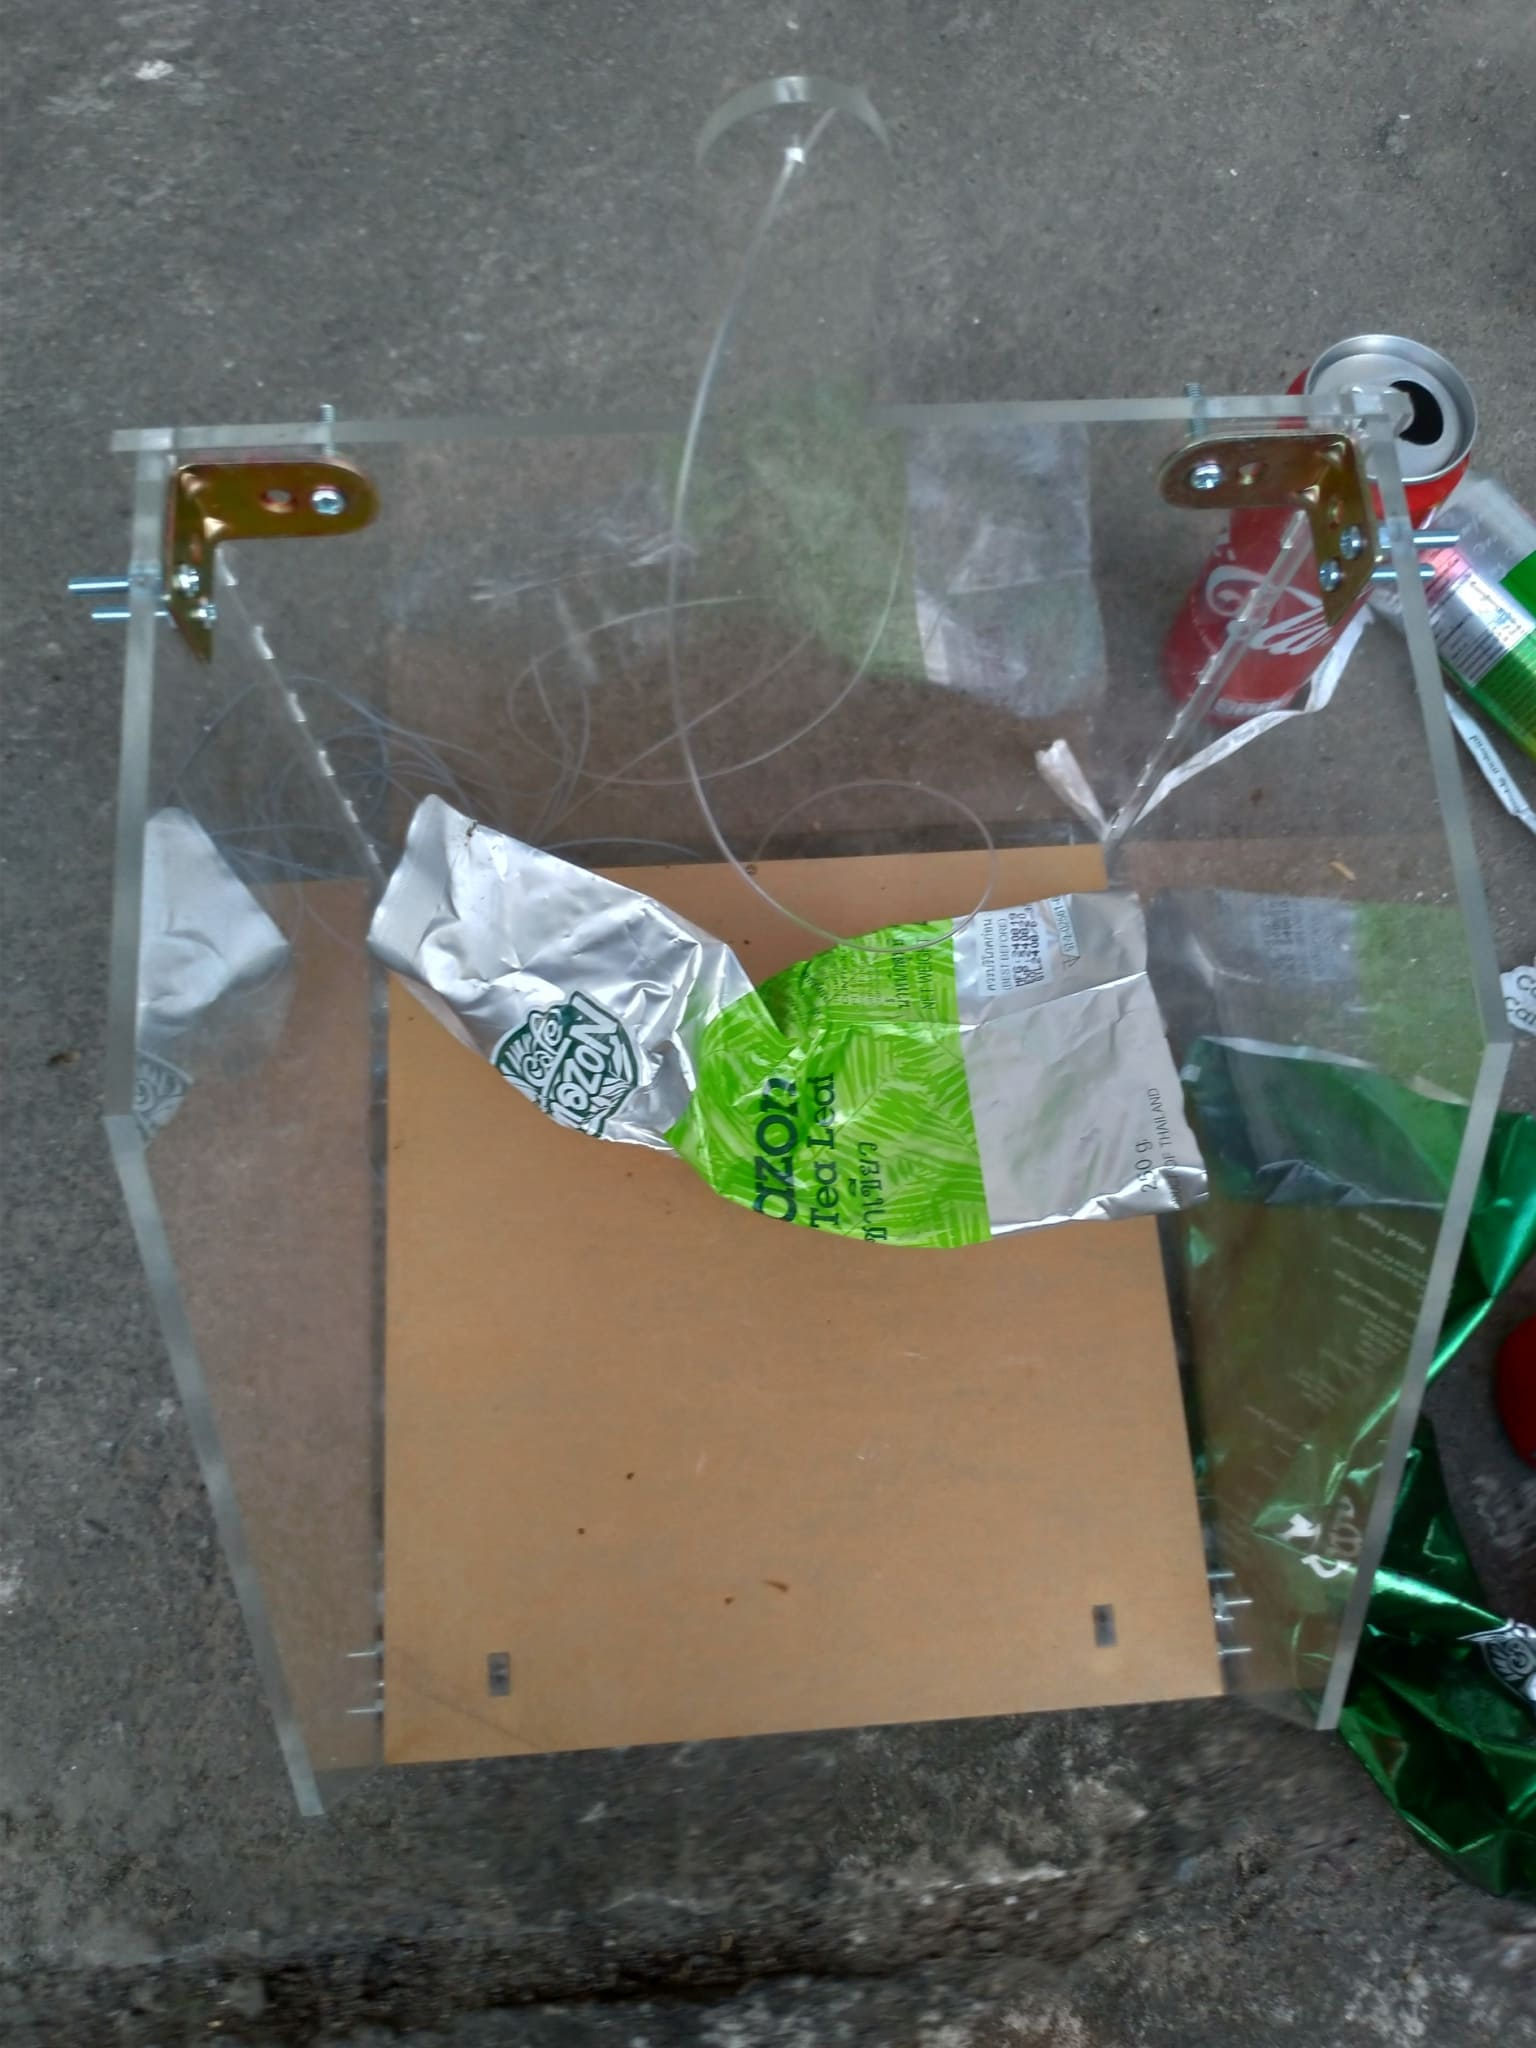AlCan: (1167, 335, 1475, 714), (1413, 469, 1536, 734)
Others: (363, 801, 1210, 1235), (1183, 1018, 1536, 1901)
